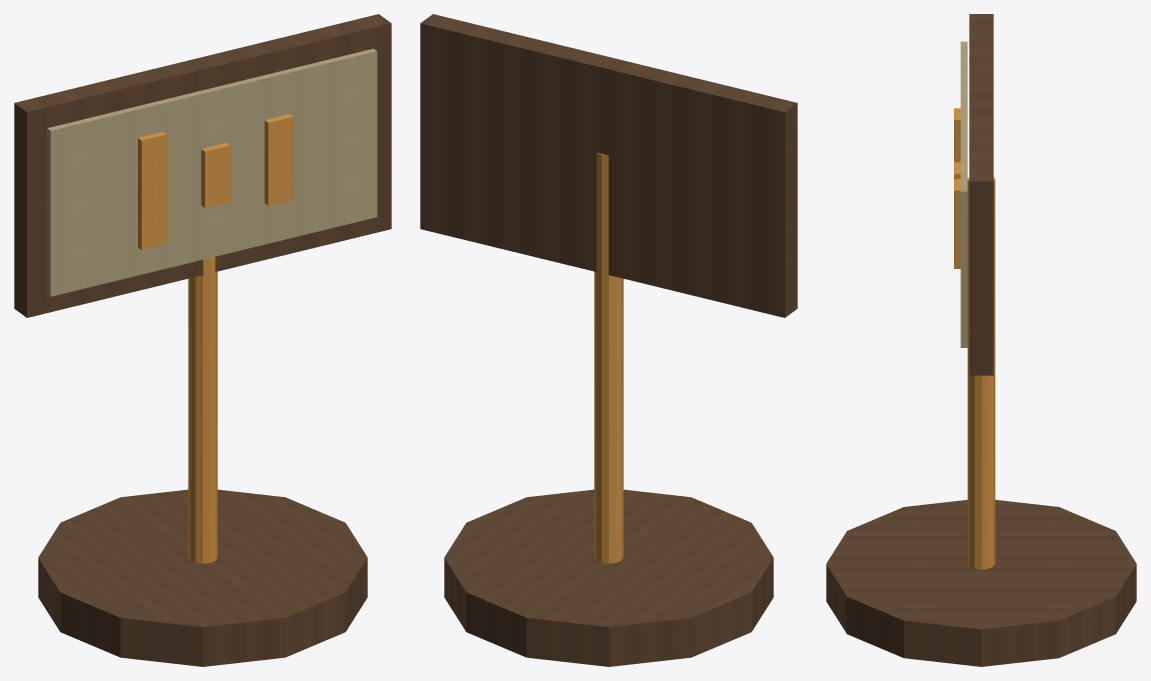
File: atlas100-s011-a11.glb
The picture shows the model from 3 angles, left to right: view 1: azimuth 30°, elevation 25°; view 2: azimuth 150°, elevation 25°; view 3: azimuth 270°, elevation 25°; orthographic projection. The views are drawn at different scales.
Parts seen in each view (by area): view 1: atlas100-s011-a11:part-003, atlas100-s011-a11:part-000, atlas100-s011-a11:part-002, atlas100-s011-a11:part-001, atlas100-s011-a11:part-004, atlas100-s011-a11:part-006, atlas100-s011-a11:part-005; view 2: atlas100-s011-a11:part-002, atlas100-s011-a11:part-000, atlas100-s011-a11:part-001; view 3: atlas100-s011-a11:part-000, atlas100-s011-a11:part-002, atlas100-s011-a11:part-001, atlas100-s011-a11:part-003, atlas100-s011-a11:part-006.
Part boxes in pixels (x1,y1,x2,y2): atlas100-s011-a11:part-003: (47,48,377,296); atlas100-s011-a11:part-000: (38,489,367,666); atlas100-s011-a11:part-002: (14,14,391,317); atlas100-s011-a11:part-001: (188,257,217,563); atlas100-s011-a11:part-004: (138,132,166,249); atlas100-s011-a11:part-006: (264,114,293,205); atlas100-s011-a11:part-005: (201,143,230,207); atlas100-s011-a11:part-002: (420,14,797,317); atlas100-s011-a11:part-000: (444,489,773,666); atlas100-s011-a11:part-001: (594,153,623,563); atlas100-s011-a11:part-000: (826,500,1136,666); atlas100-s011-a11:part-002: (969,14,993,375); atlas100-s011-a11:part-001: (967,177,995,569); atlas100-s011-a11:part-003: (960,41,967,347); atlas100-s011-a11:part-006: (954,179,960,268).
Bounding box in the file's own units: 1.15 × 1.61 × 0.9.
3 materials, 3 textured.
